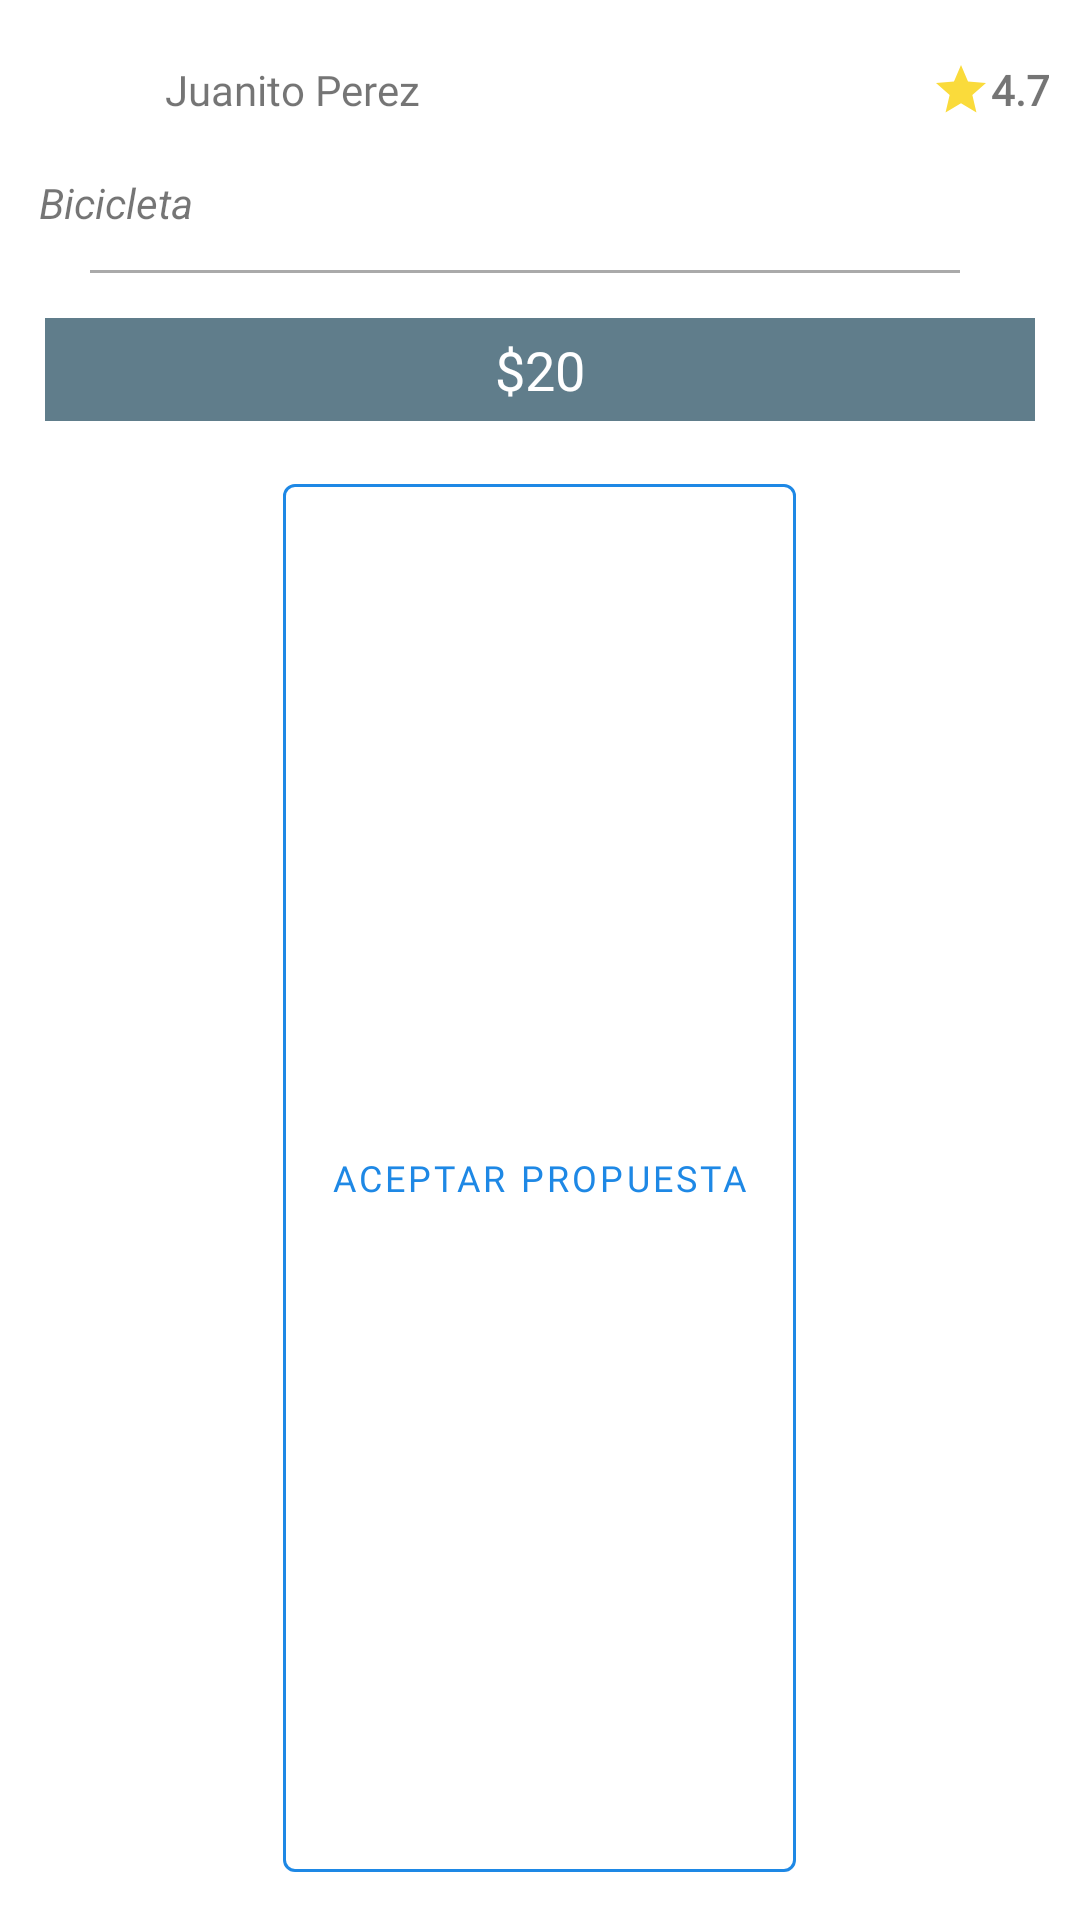

Icon click points for this 1080x1920 phone screenshot, format (x=x, y=y):
star: (x=961, y=89)
